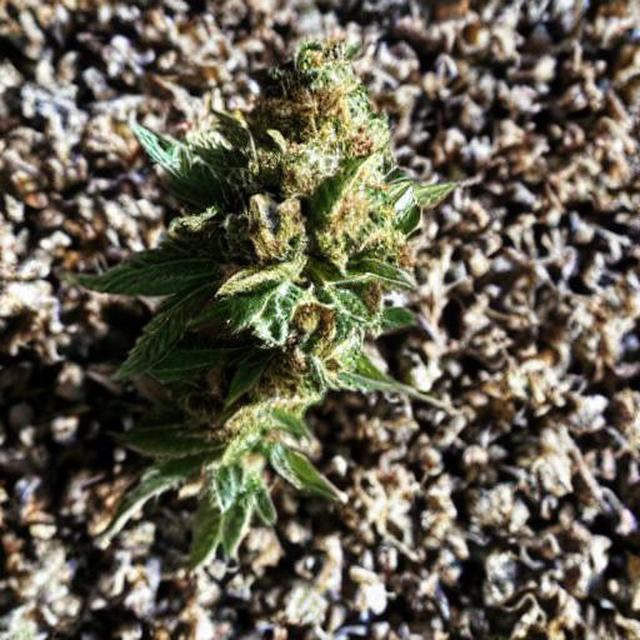Marijuana Plant: (92, 66, 486, 640)
